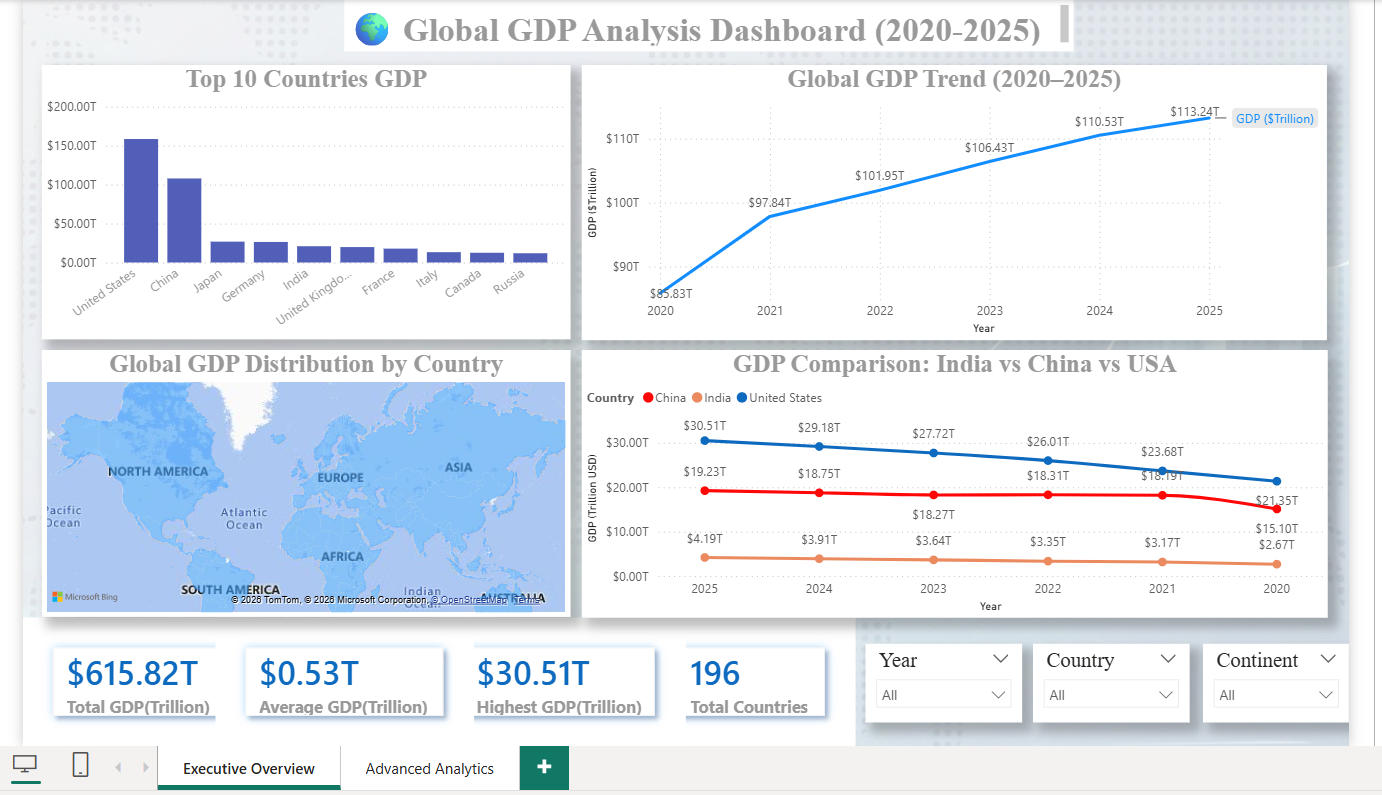

The page's visual inventory and layout, read from the dashboard file:
{"tool":"powerbi","page":{"name":"Executive Overview","canvas":[1280,720],"ordinal":0},"visuals":[{"type":"cardVisual","fields":{"Data":["cleaned_gdp_data.Total GDP(Trillion)"]},"box":[0,596,229.2,124.3],"z":0},{"type":"cardVisual","fields":{"Data":["cleaned_gdp_data.Total Countries"]},"box":[602,596,201.5,124.3],"z":1000},{"type":"cardVisual","fields":{"Data":["cleaned_gdp_data.Highest GDP"]},"box":[395.7,596,243.7,124.3],"z":2000},{"type":"cardVisual","fields":{"Data":["cleaned_gdp_data.Average GDP"]},"box":[185.8,596,249.7,124.3],"z":3000},{"type":"clusteredColumnChart","title":"Top 10 Countries GDP","fields":{"Y":["cleaned_gdp_data.GDP ($Trillion)"],"Category":["cleaned_gdp_data.Country"]},"box":[17.8,63.1,510.5,264.8],"z":4000},{"type":"lineChart","title":"Global GDP Trend (2020–2025)","fields":{"Category":["cleaned_gdp_data.Year"],"Y":["cleaned_gdp_data.GDP ($Trillion)"]},"box":[539.3,62.7,719,265.4],"z":5000},{"type":"filledMap","title":"Global GDP Distribution by Country","fields":{"Category":["cleaned_gdp_data.Country"]},"box":[17.8,337.6,510.5,258],"z":6000},{"type":"lineChart","title":"GDP Comparison: India vs China vs USA","fields":{"Category":["cleaned_gdp_data.Year"],"Y":["cleaned_gdp_data.GDP ($Trillion)"],"Series":["cleaned_gdp_data.Country"]},"box":[539.3,337.8,720.2,258.2],"z":6001},{"type":"slicer","fields":{"Values":["cleaned_gdp_data.Year"]},"box":[813.1,621.3,150.8,76],"z":6002},{"type":"slicer","fields":{"Values":["cleaned_gdp_data.Country"]},"box":[974.8,621.3,150.8,76],"z":6003},{"type":"slicer","fields":{"Values":["cleaned_gdp_data.Continent"]},"box":[1138.9,621.3,141.2,76],"z":6004},{"type":"textbox","box":[310.1,0,703.9,49.4],"z":6005}]}

Visuals, with their boxes in screenshot pixels (x1, y1, x2, y2):
cardVisual - cleaned_gdp_data.Total GDP(Trillion): {"left": 25, "top": 612, "right": 261, "bottom": 740}
cardVisual - cleaned_gdp_data.Total Countries: {"left": 643, "top": 612, "right": 850, "bottom": 740}
cardVisual - cleaned_gdp_data.Highest GDP: {"left": 432, "top": 612, "right": 682, "bottom": 740}
cardVisual - cleaned_gdp_data.Average GDP: {"left": 216, "top": 612, "right": 472, "bottom": 740}
"Top 10 Countries GDP" clusteredColumnChart: {"left": 43, "top": 65, "right": 568, "bottom": 337}
"Global GDP Trend (2020–2025)" lineChart: {"left": 579, "top": 64, "right": 1317, "bottom": 337}
"Global GDP Distribution by Country" filledMap: {"left": 43, "top": 347, "right": 568, "bottom": 612}
"GDP Comparison: India vs China vs USA" lineChart: {"left": 579, "top": 347, "right": 1319, "bottom": 612}
slicer - cleaned_gdp_data.Year: {"left": 860, "top": 638, "right": 1015, "bottom": 716}
slicer - cleaned_gdp_data.Country: {"left": 1026, "top": 638, "right": 1181, "bottom": 716}
slicer - cleaned_gdp_data.Continent: {"left": 1195, "top": 638, "right": 1340, "bottom": 716}
textbox: {"left": 344, "top": 0, "right": 1067, "bottom": 51}
